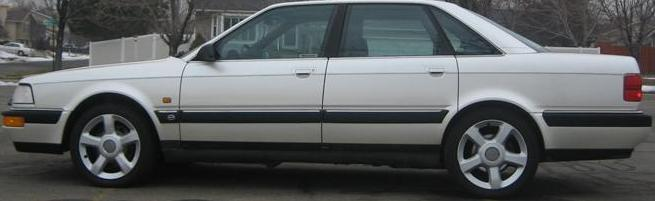front_view: (3, 70, 77, 155)
side_glass: (196, 3, 510, 62)
